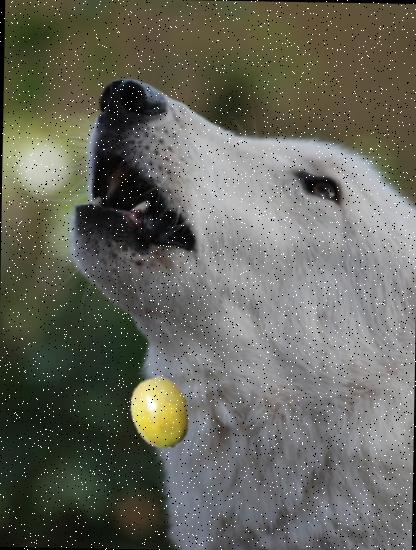Maracuja: (123, 374, 198, 450)
